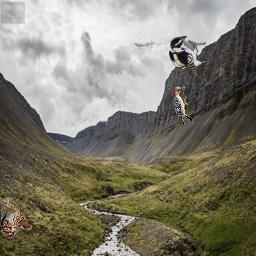Sparrow: (1, 198, 32, 238)
Woodpecker: (169, 36, 206, 76), (171, 85, 194, 125)
